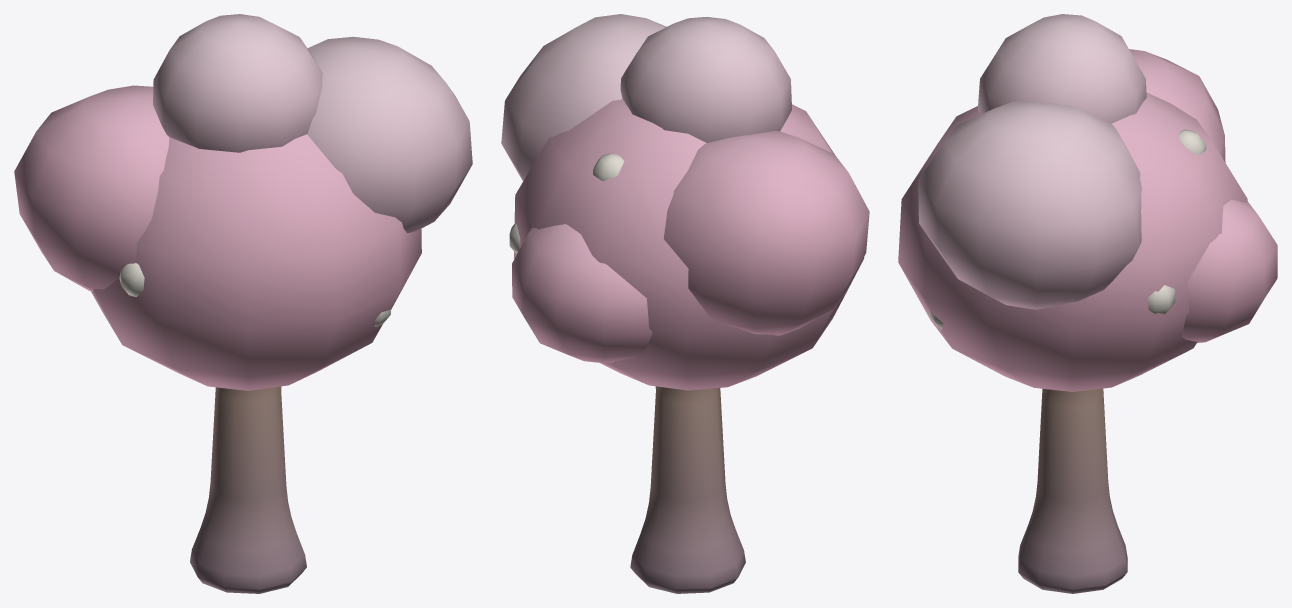
The model's file is s4Sakura.glb.
3 renders of one model, left to right at view 1: azimuth 30°, elevation 25°; view 2: azimuth 150°, elevation 25°; view 3: azimuth 270°, elevation 25°, orthographic. The views are drawn at different scales.
Visible parts, largest first — view 1: Body; view 2: Body; view 3: Body.
Part boxes in pixels (x1,y1,x2,y2): Body: (14,14,472,593); Body: (501,14,869,593); Body: (898,14,1277,593).
Bounding box in the file's own units: 8.46 × 11.71 × 7.4.
